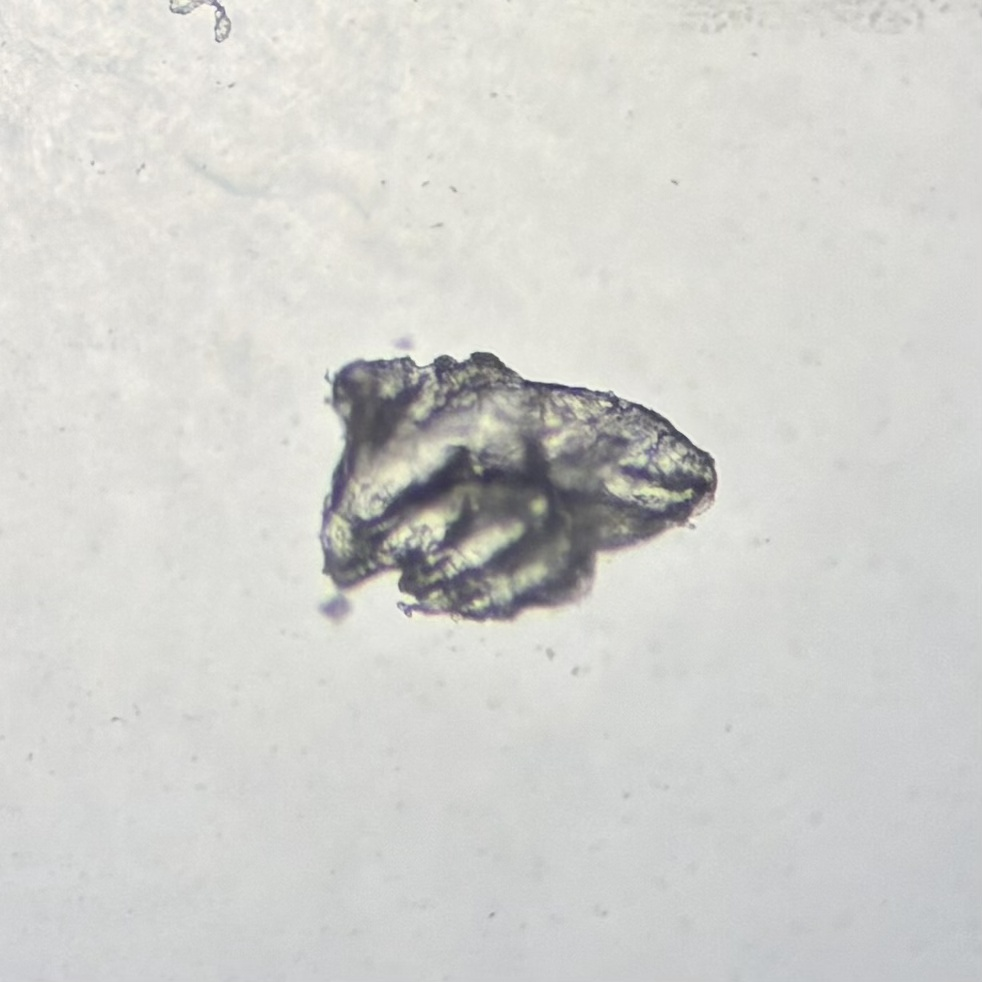microplastic: (317, 355, 717, 622), (167, 1, 234, 42)
